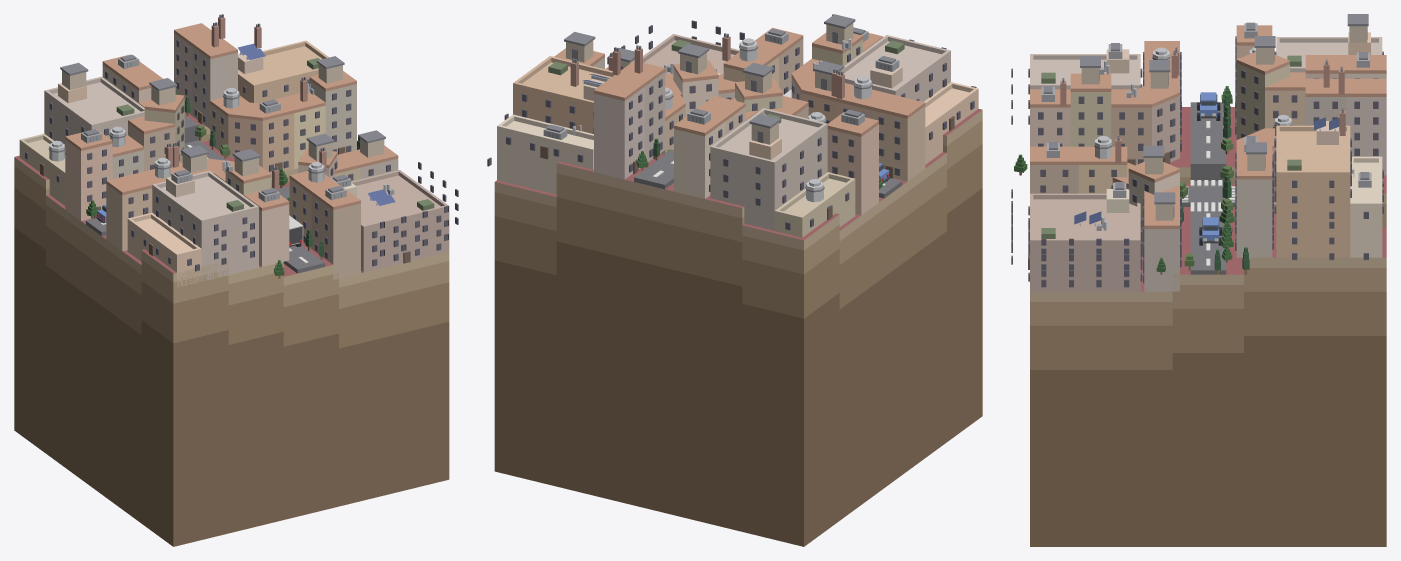
File: block_14_engineered_20.glb
3 views of the same model, side by side, from view 1: azimuth 30°, elevation 25°; view 2: azimuth 150°, elevation 25°; view 3: azimuth 270°, elevation 25° (orthographic). The views are drawn at different scales.
Parts seen in each view (by area): view 1: Patch_MidRight_b14_ES, Cerda_MidRight_b14_ES, Insets_MidRight_b14_ES, CerdaRoofProps_MidRight_b14_ES, Roads_MidRight_b14_ES; view 2: Patch_MidRight_b14_ES, Insets_MidRight_b14_ES, Cerda_MidRight_b14_ES, CerdaRoofProps_MidRight_b14_ES, Roads_MidRight_b14_ES; view 3: Patch_MidRight_b14_ES, Cerda_MidRight_b14_ES, Insets_MidRight_b14_ES, CerdaRoofProps_MidRight_b14_ES, Roads_MidRight_b14_ES, Asset_Car.029_ES, Asset_Car.028_ES, Zebra_MidRight_b14_ES.
Boxes of the visible parts, x1=… form: Patch_MidRight_b14_ES: x1=14, y1=112, x2=449, y2=546; Cerda_MidRight_b14_ES: x1=65, y1=23, x2=398, y2=279; Insets_MidRight_b14_ES: x1=19, y1=40, x2=458, y2=287; CerdaRoofProps_MidRight_b14_ES: x1=48, y1=14, x2=395, y2=205; Roads_MidRight_b14_ES: x1=86, y1=115, x2=324, y2=273; Patch_MidRight_b14_ES: x1=494, y1=109, x2=982, y2=546; Insets_MidRight_b14_ES: x1=487, y1=20, x2=978, y2=237; Cerda_MidRight_b14_ES: x1=554, y1=27, x2=925, y2=215; CerdaRoofProps_MidRight_b14_ES: x1=543, y1=14, x2=899, y2=202; Roads_MidRight_b14_ES: x1=634, y1=150, x2=902, y2=198; Patch_MidRight_b14_ES: x1=1030, y1=107, x2=1386, y2=546; Cerda_MidRight_b14_ES: x1=1030, y1=25, x2=1386, y2=291; Insets_MidRight_b14_ES: x1=1011, y1=32, x2=1383, y2=291; CerdaRoofProps_MidRight_b14_ES: x1=1041, y1=14, x2=1371, y2=230; Roads_MidRight_b14_ES: x1=1182, y1=102, x2=1234, y2=274; Asset_Car.029_ES: x1=1197, y1=92, x2=1220, y2=120; Asset_Car.028_ES: x1=1199, y1=217, x2=1222, y2=245; Zebra_MidRight_b14_ES: x1=1182, y1=180, x2=1235, y2=211.
Size of the model in its own units: 10 by 12.66 by 10.
